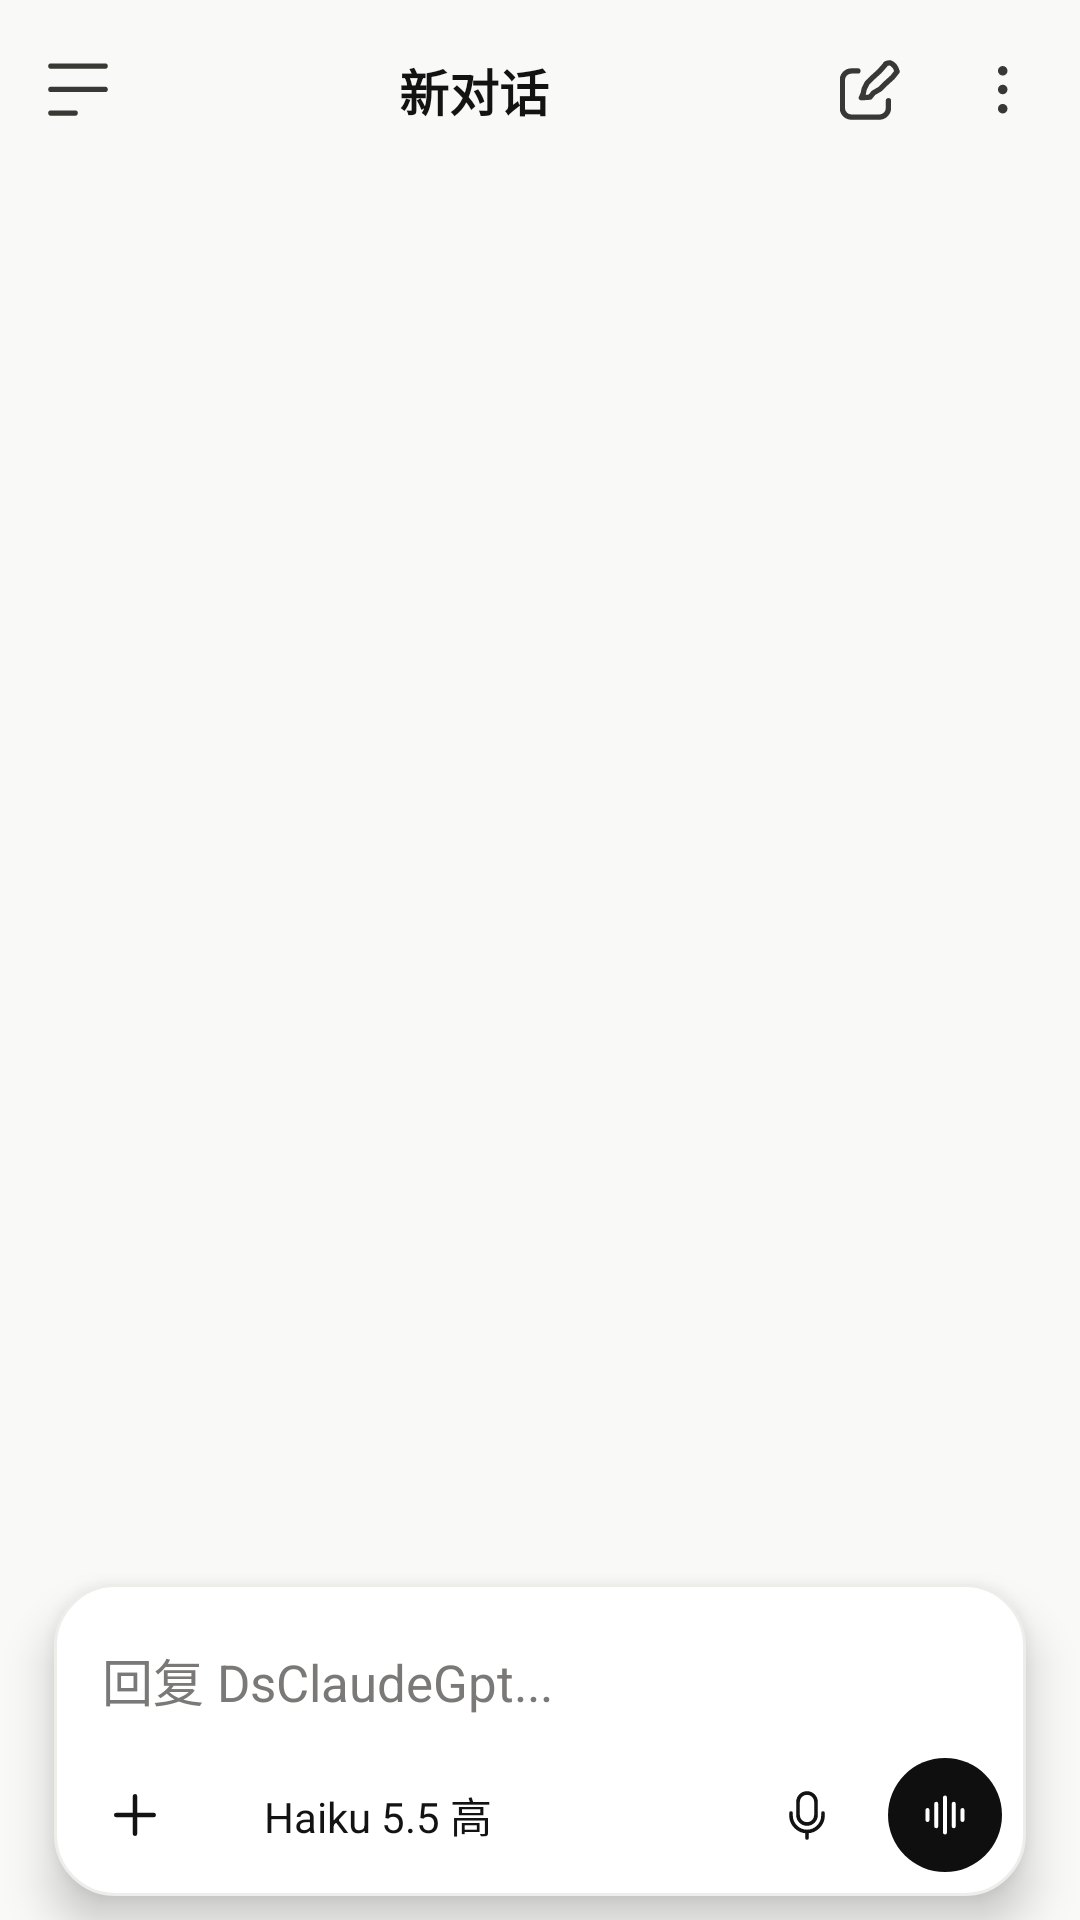

Named icons in this screenshot (1080 x 1920) and their centers, [x,y]:
新建对话: [870,90]
更多选项: [1003,90]
添加内容: [135,1815]
菜单: [78,89]
语音输入: [945,1815]
麦克风: [807,1815]
